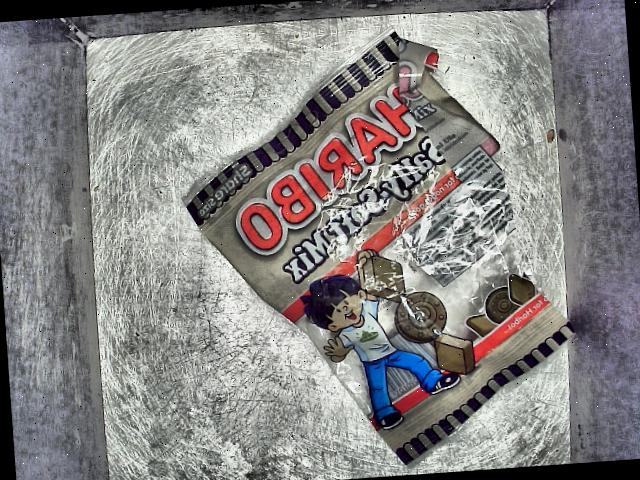Plastic: (170, 34, 580, 455)
